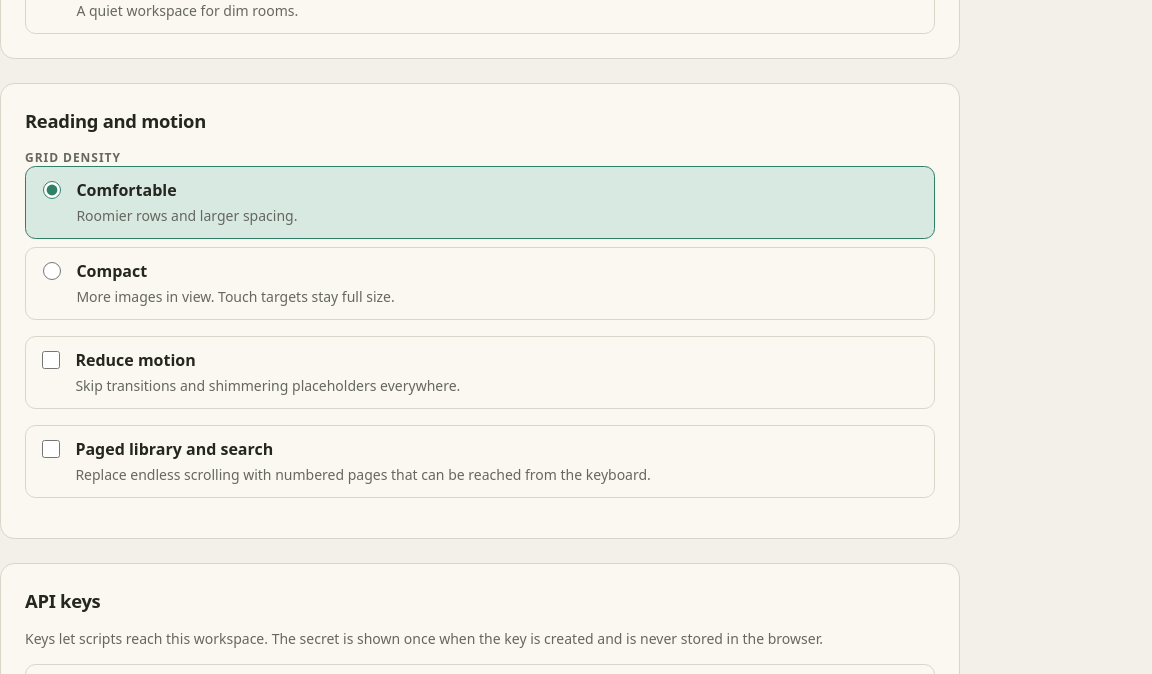
Test: settings: device preferences › keeps a change on the device when the account cannot be reached
(page scrolled)
Click the checkbox labelled "Reduce motion".
click(51, 360)  # box [42,351,60,369]
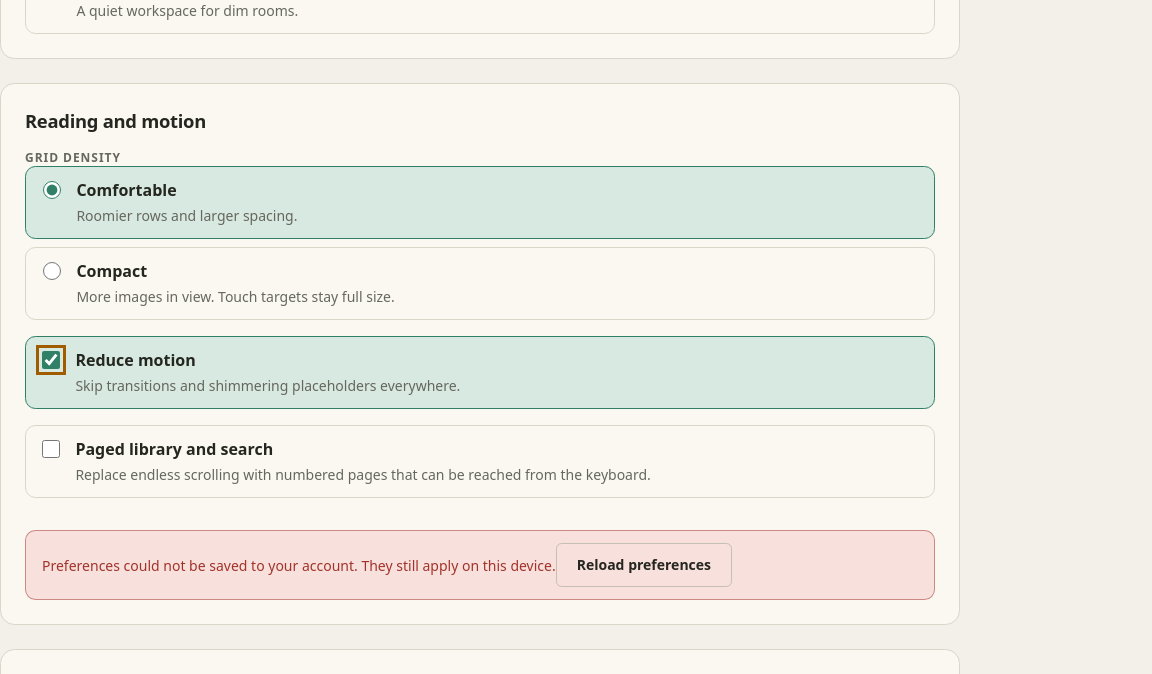
Now the message shows "still apply on this device", box [42,555,556,574]
